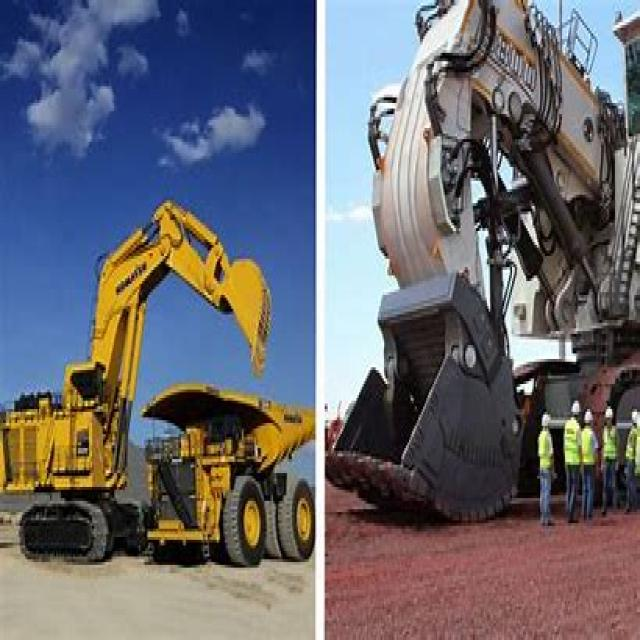dump_truck: (139, 356, 321, 582)
excavator: (336, 6, 638, 554), (6, 201, 267, 598)
